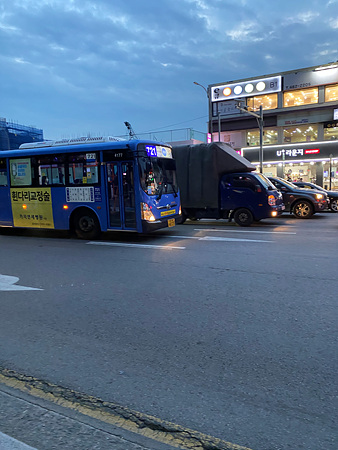entrance: (104, 151, 138, 229)
